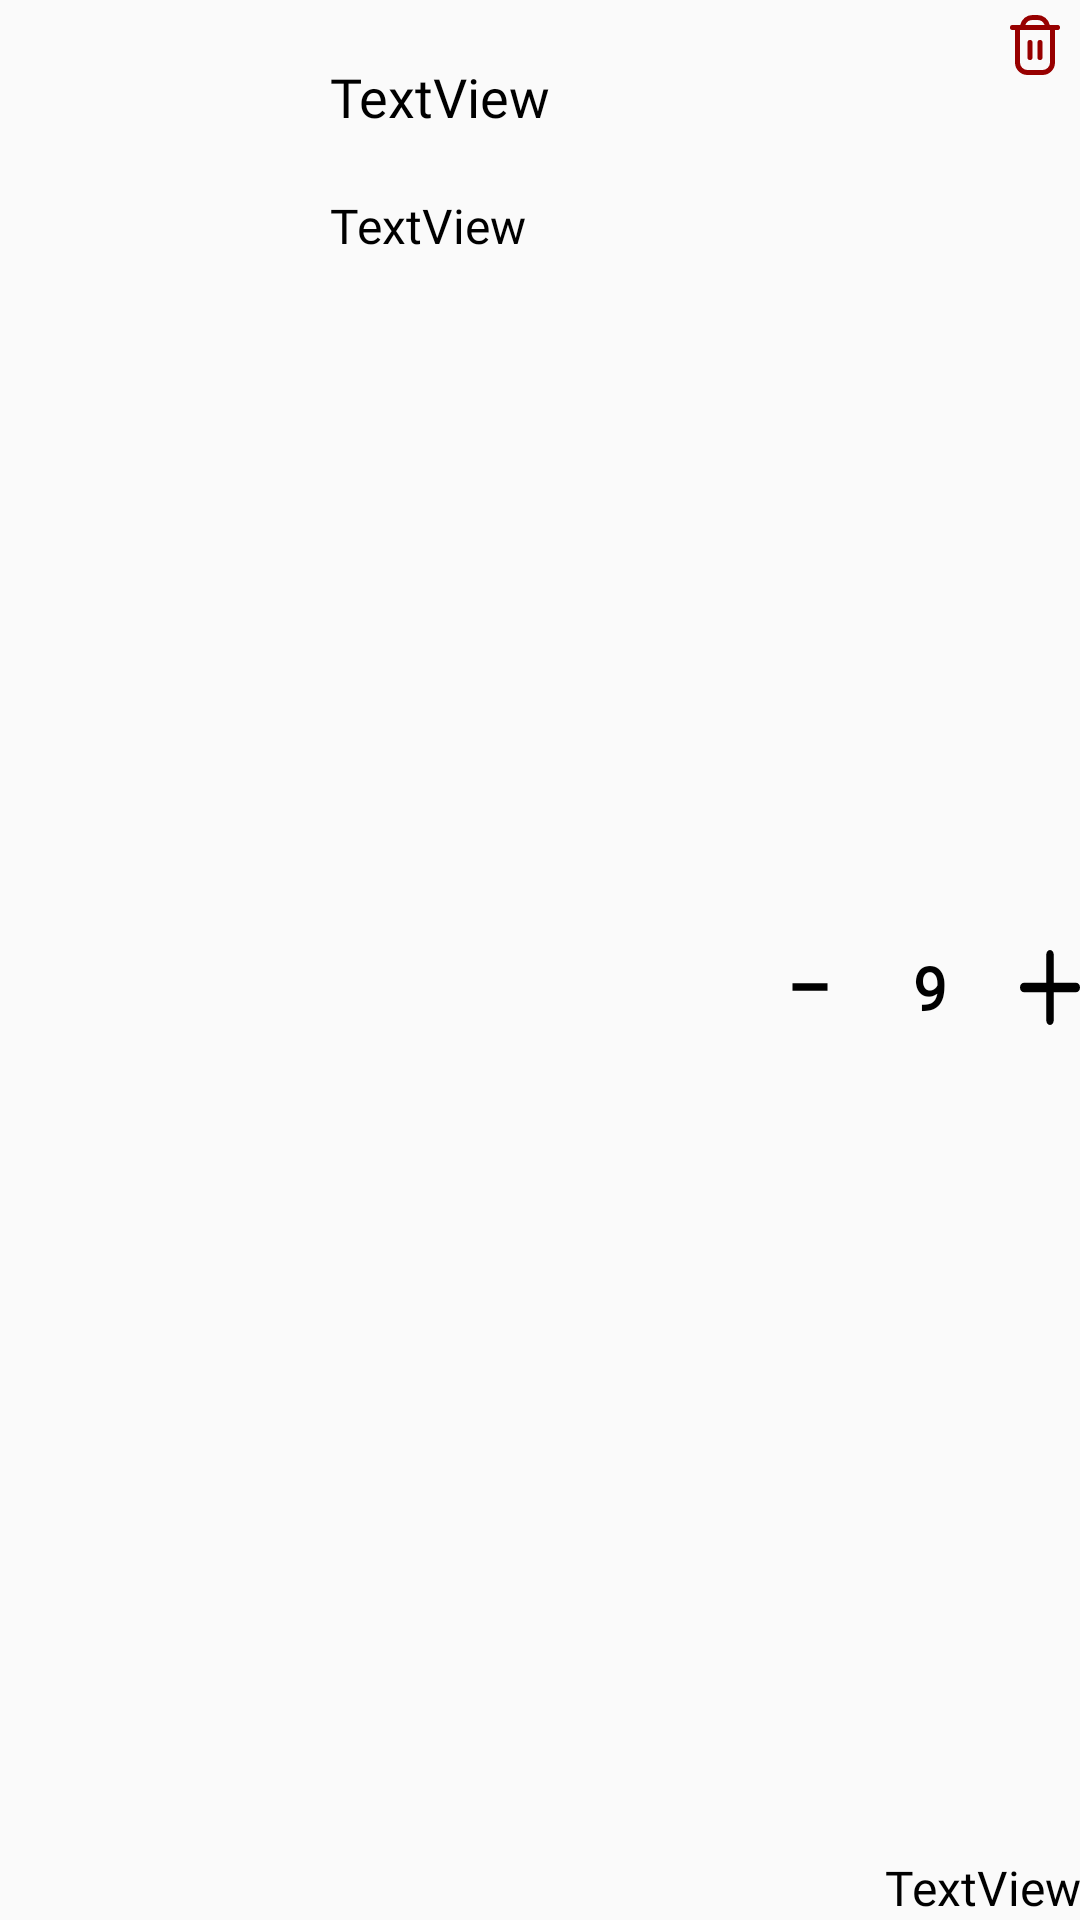

Point at icon controls on the screen. Image size 1080w x 1920h, points as point (x, y).
basura: point (1035, 45)
mas: point (1050, 987)
menos: point (810, 987)
